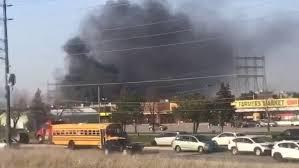smoke: (58, 3, 245, 90)
